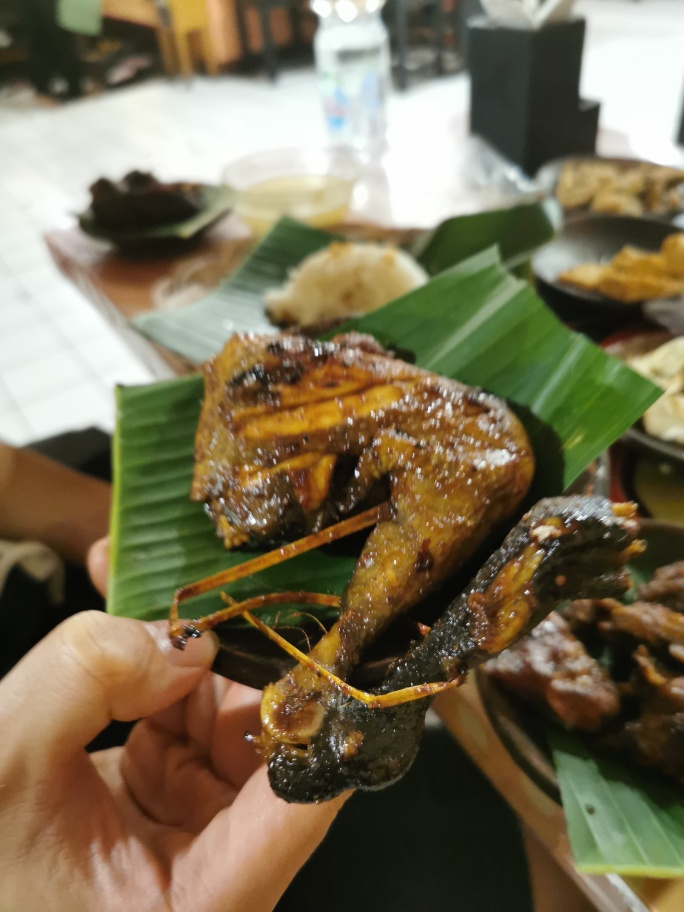ayam bakar: (192, 326, 647, 818)
